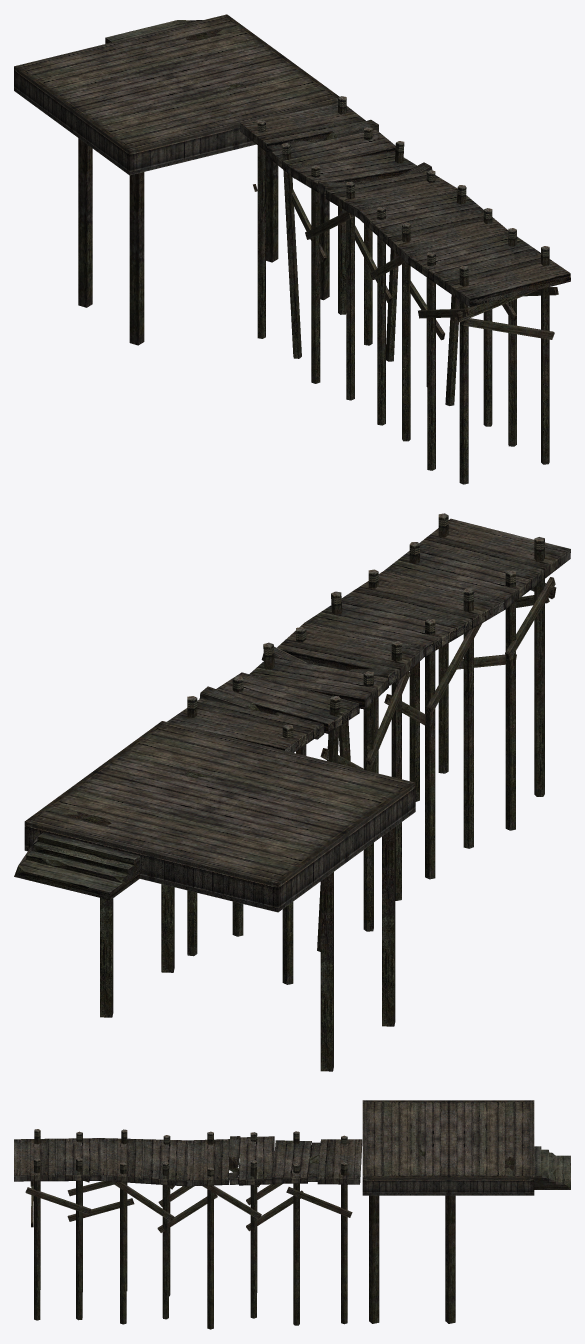
File: b_old_dock_obj_02.fbx
The picture shows the model from 3 angles, top to bottom: view 1: azimuth 30°, elevation 25°; view 2: azimuth 150°, elevation 25°; view 3: azimuth 270°, elevation 25°; orthographic projection. The views are drawn at different scales.
Visible parts, largest first — view 1: objB_old_dock_obj_02; view 2: objB_old_dock_obj_02; view 3: objB_old_dock_obj_02.
Part boxes in pixels (bbox=[...]): objB_old_dock_obj_02: bbox=[14, 14, 570, 484]; objB_old_dock_obj_02: bbox=[14, 513, 570, 1071]; objB_old_dock_obj_02: bbox=[14, 1100, 570, 1329].
Bounding box in the file's own units: 10.57 × 10.65 × 32.13.
